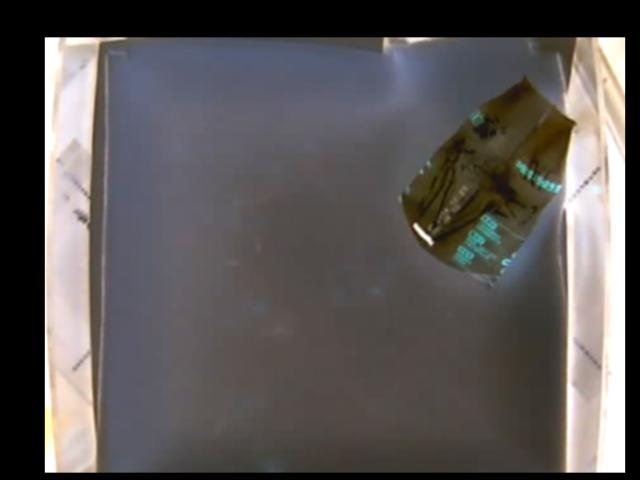Bottle: (400, 79, 578, 284)
